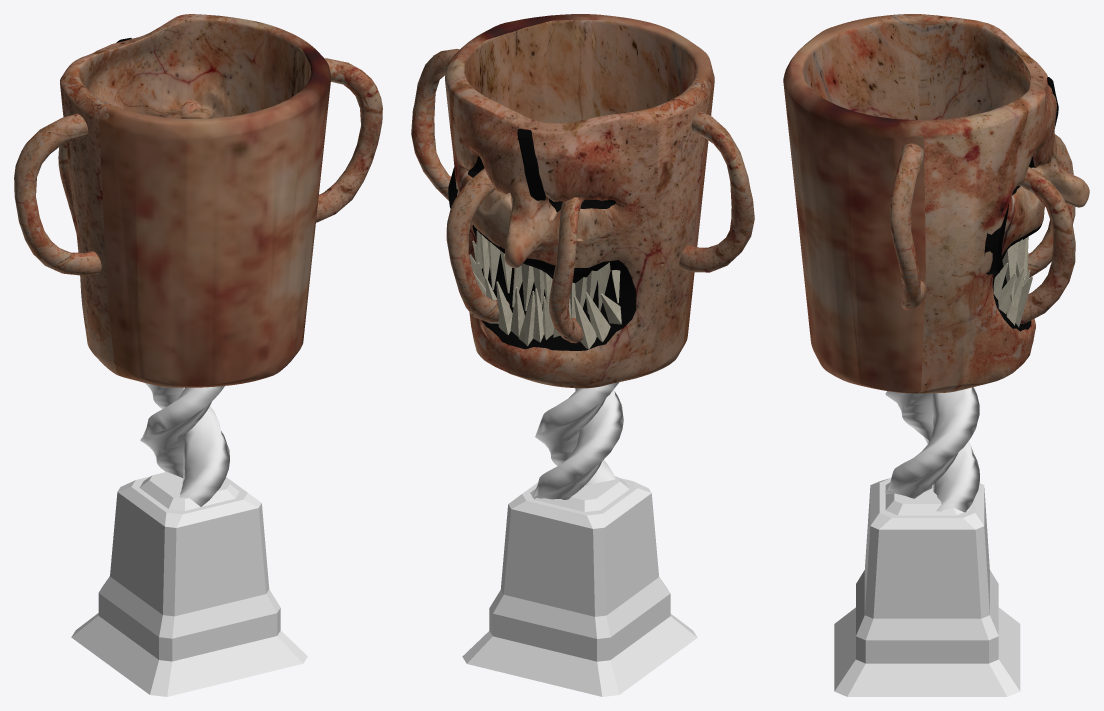
File: StakanDead.fbx
3 renders of one model, left to right at view 1: azimuth 30°, elevation 25°; view 2: azimuth 150°, elevation 25°; view 3: azimuth 270°, elevation 25°, orthographic. The views are drawn at different scales.
Visible parts, largest first — view 1: Cylinder.006, Cube, NurbsPath.001, Cylinder.007, Cylinder.008; view 2: Cylinder.006, Cube, NurbsPath.001, Cylinder.007, Cylinder.008, Cylinder.009; view 3: Cylinder.006, Cube, NurbsPath.001, Cylinder.008.
Boxes of the visible parts, x1,y1,x2,y2 form: Cylinder.006: [58, 14, 330, 387]; Cube: [71, 472, 307, 696]; NurbsPath.001: [140, 382, 229, 506]; Cylinder.007: [14, 113, 101, 275]; Cylinder.008: [316, 58, 382, 222]; Cylinder.006: [445, 14, 714, 388]; Cube: [462, 476, 697, 696]; NurbsPath.001: [532, 382, 623, 499]; Cylinder.007: [679, 110, 754, 272]; Cylinder.008: [411, 49, 459, 200]; Cylinder.009: [517, 129, 545, 200]; Cylinder.006: [783, 14, 1089, 393]; Cube: [834, 478, 1020, 696]; NurbsPath.001: [885, 387, 979, 512]; Cylinder.008: [890, 143, 926, 310].
Bounding box in the file's own units: 2222 × 3498 × 1646.
